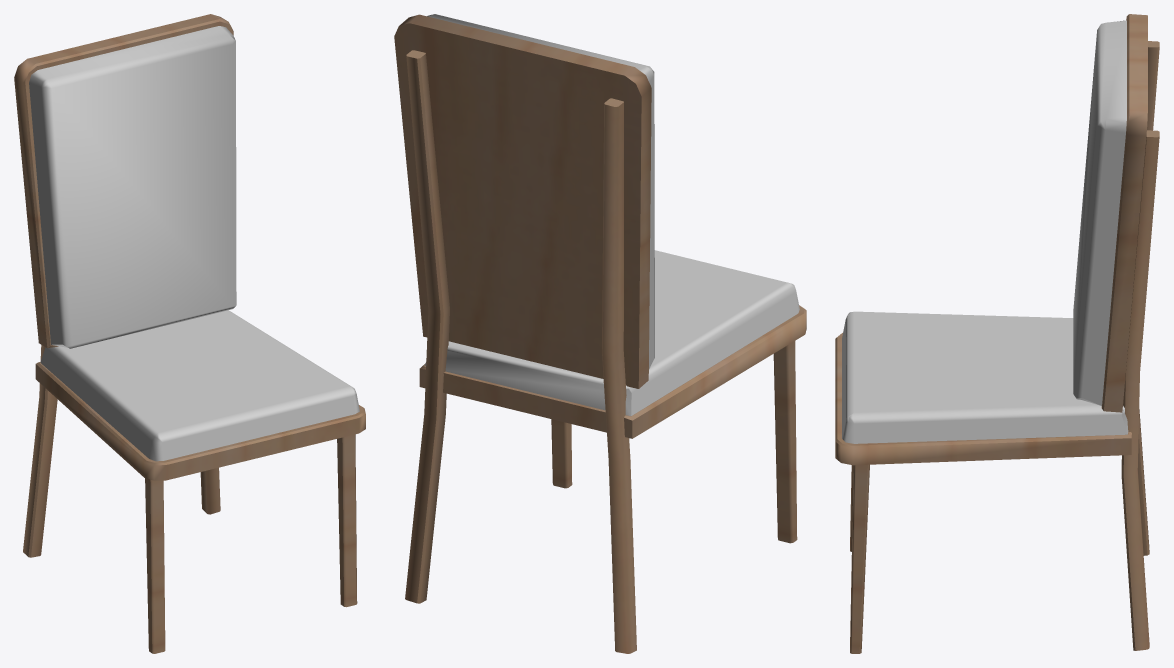
Rendered from Chair.fbx.
The picture shows the model from 3 angles, left to right: view 1: azimuth 30°, elevation 25°; view 2: azimuth 150°, elevation 25°; view 3: azimuth 270°, elevation 25°; orthographic projection. The views are drawn at different scales.
Parts seen in each view (by area): view 1: Chair_LOD0; view 2: Chair_LOD0; view 3: Chair_LOD0.
Boxes of the visible parts, x1,y1,x2,y2 form: Chair_LOD0: [14, 14, 365, 653]; Chair_LOD0: [394, 14, 806, 653]; Chair_LOD0: [835, 14, 1159, 653].
Size of what is drawn, in the model's own units: 0.6485 by 1.39 by 0.7607.
